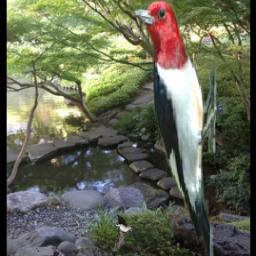Swallow: (113, 215, 132, 253)
Woodpecker: (131, 0, 227, 256)
